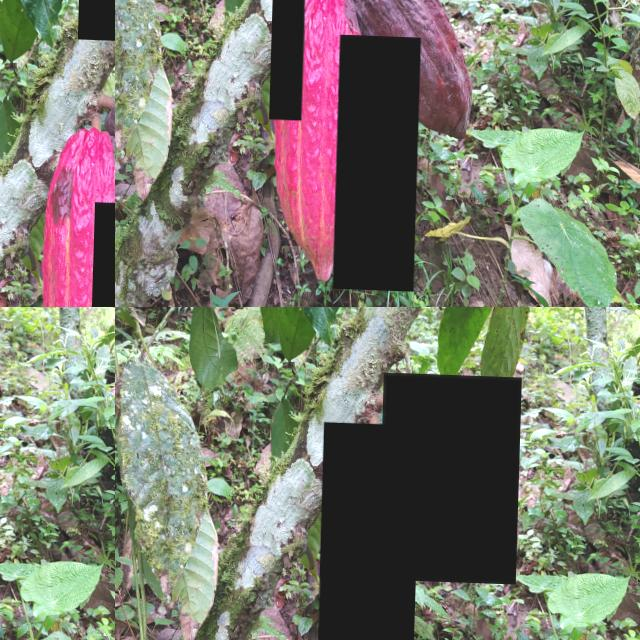Fitoftora: (380, 370, 523, 581), (318, 420, 421, 640), (336, 32, 423, 289)
Sana: (271, 0, 307, 118)
